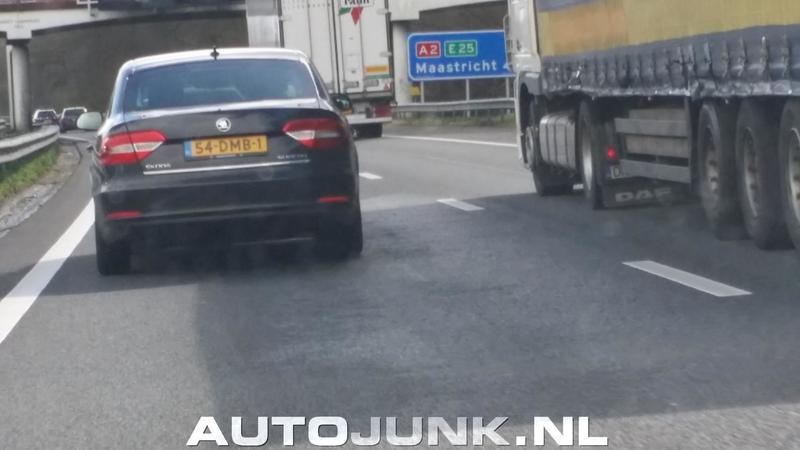kenteken: (184, 132, 271, 157)
